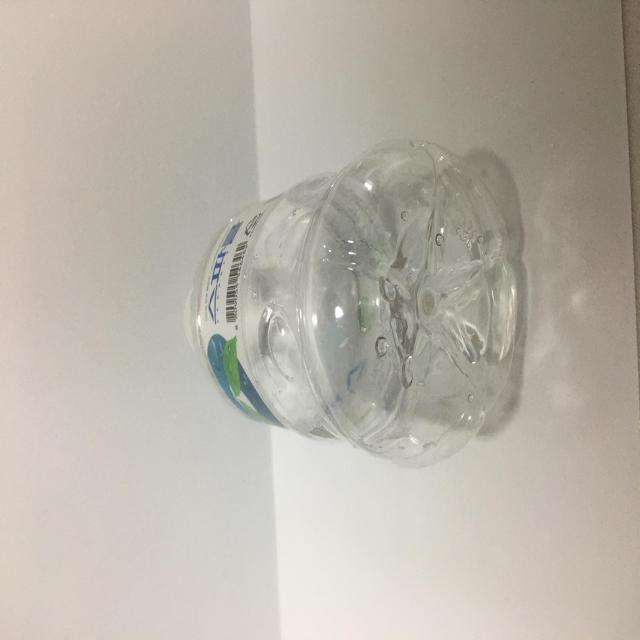bottle: (186, 115, 532, 506)
